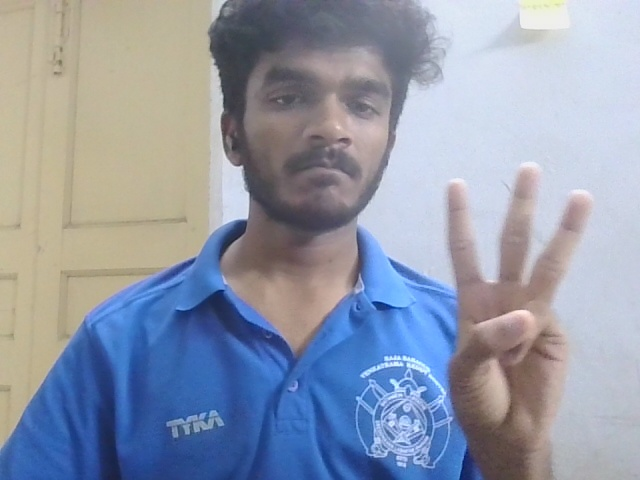please: (417, 158, 611, 444)
